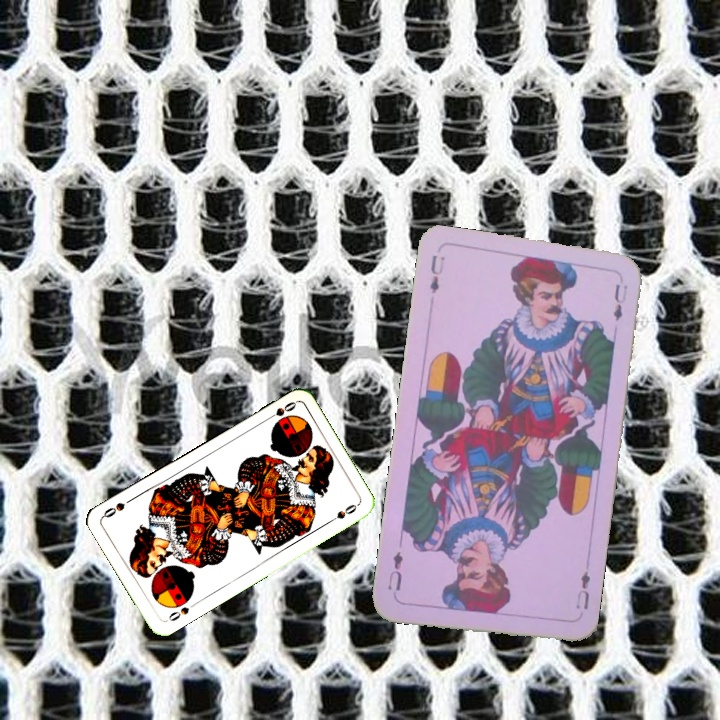EU: (425, 251, 448, 297), (571, 567, 593, 612)
SO: (261, 398, 299, 424), (162, 602, 192, 625)
